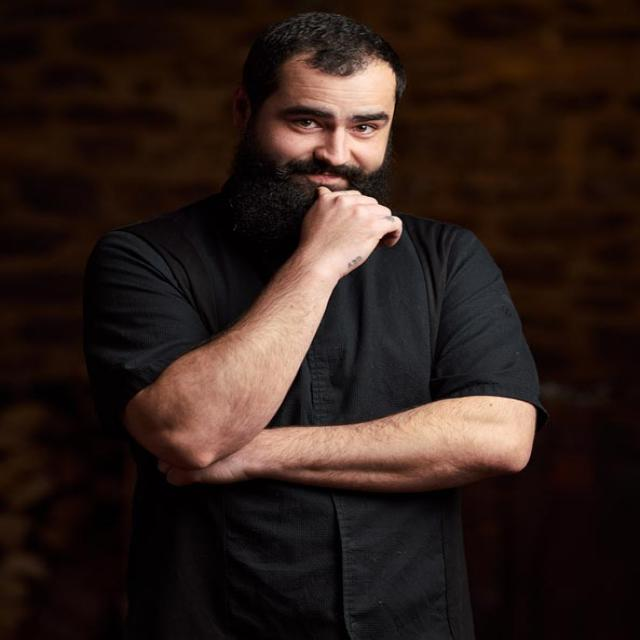human: (86, 22, 549, 637)
